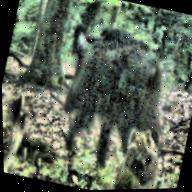boar: (55, 0, 191, 140), (116, 115, 182, 189), (2, 77, 44, 176)
